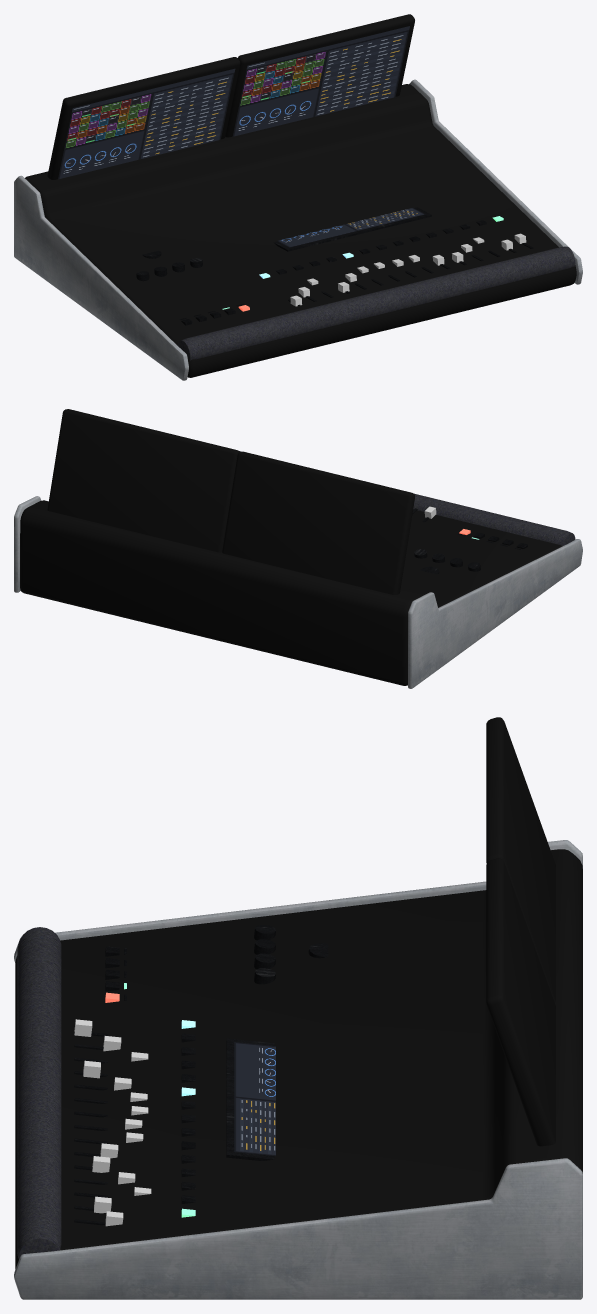
The model's file is lighting_console_grandpa_light.gltf.
The picture shows the model from 3 angles, top to bottom: view 1: azimuth 30°, elevation 25°; view 2: azimuth 150°, elevation 25°; view 3: azimuth 270°, elevation 25°; orthographic projection. The views are drawn at different scales.
Visible parts, largest first — view 1: lighting_console_grandpa_light; view 2: lighting_console_grandpa_light; view 3: lighting_console_grandpa_light.
Boxes of the visible parts, bbox=[...] form: lighting_console_grandpa_light: bbox=[14, 14, 582, 380]; lighting_console_grandpa_light: bbox=[14, 409, 582, 688]; lighting_console_grandpa_light: bbox=[14, 717, 582, 1299].
Bounding box in the file's own units: 1 × 0.4119 × 0.7493.
9 materials, 5 textured.
